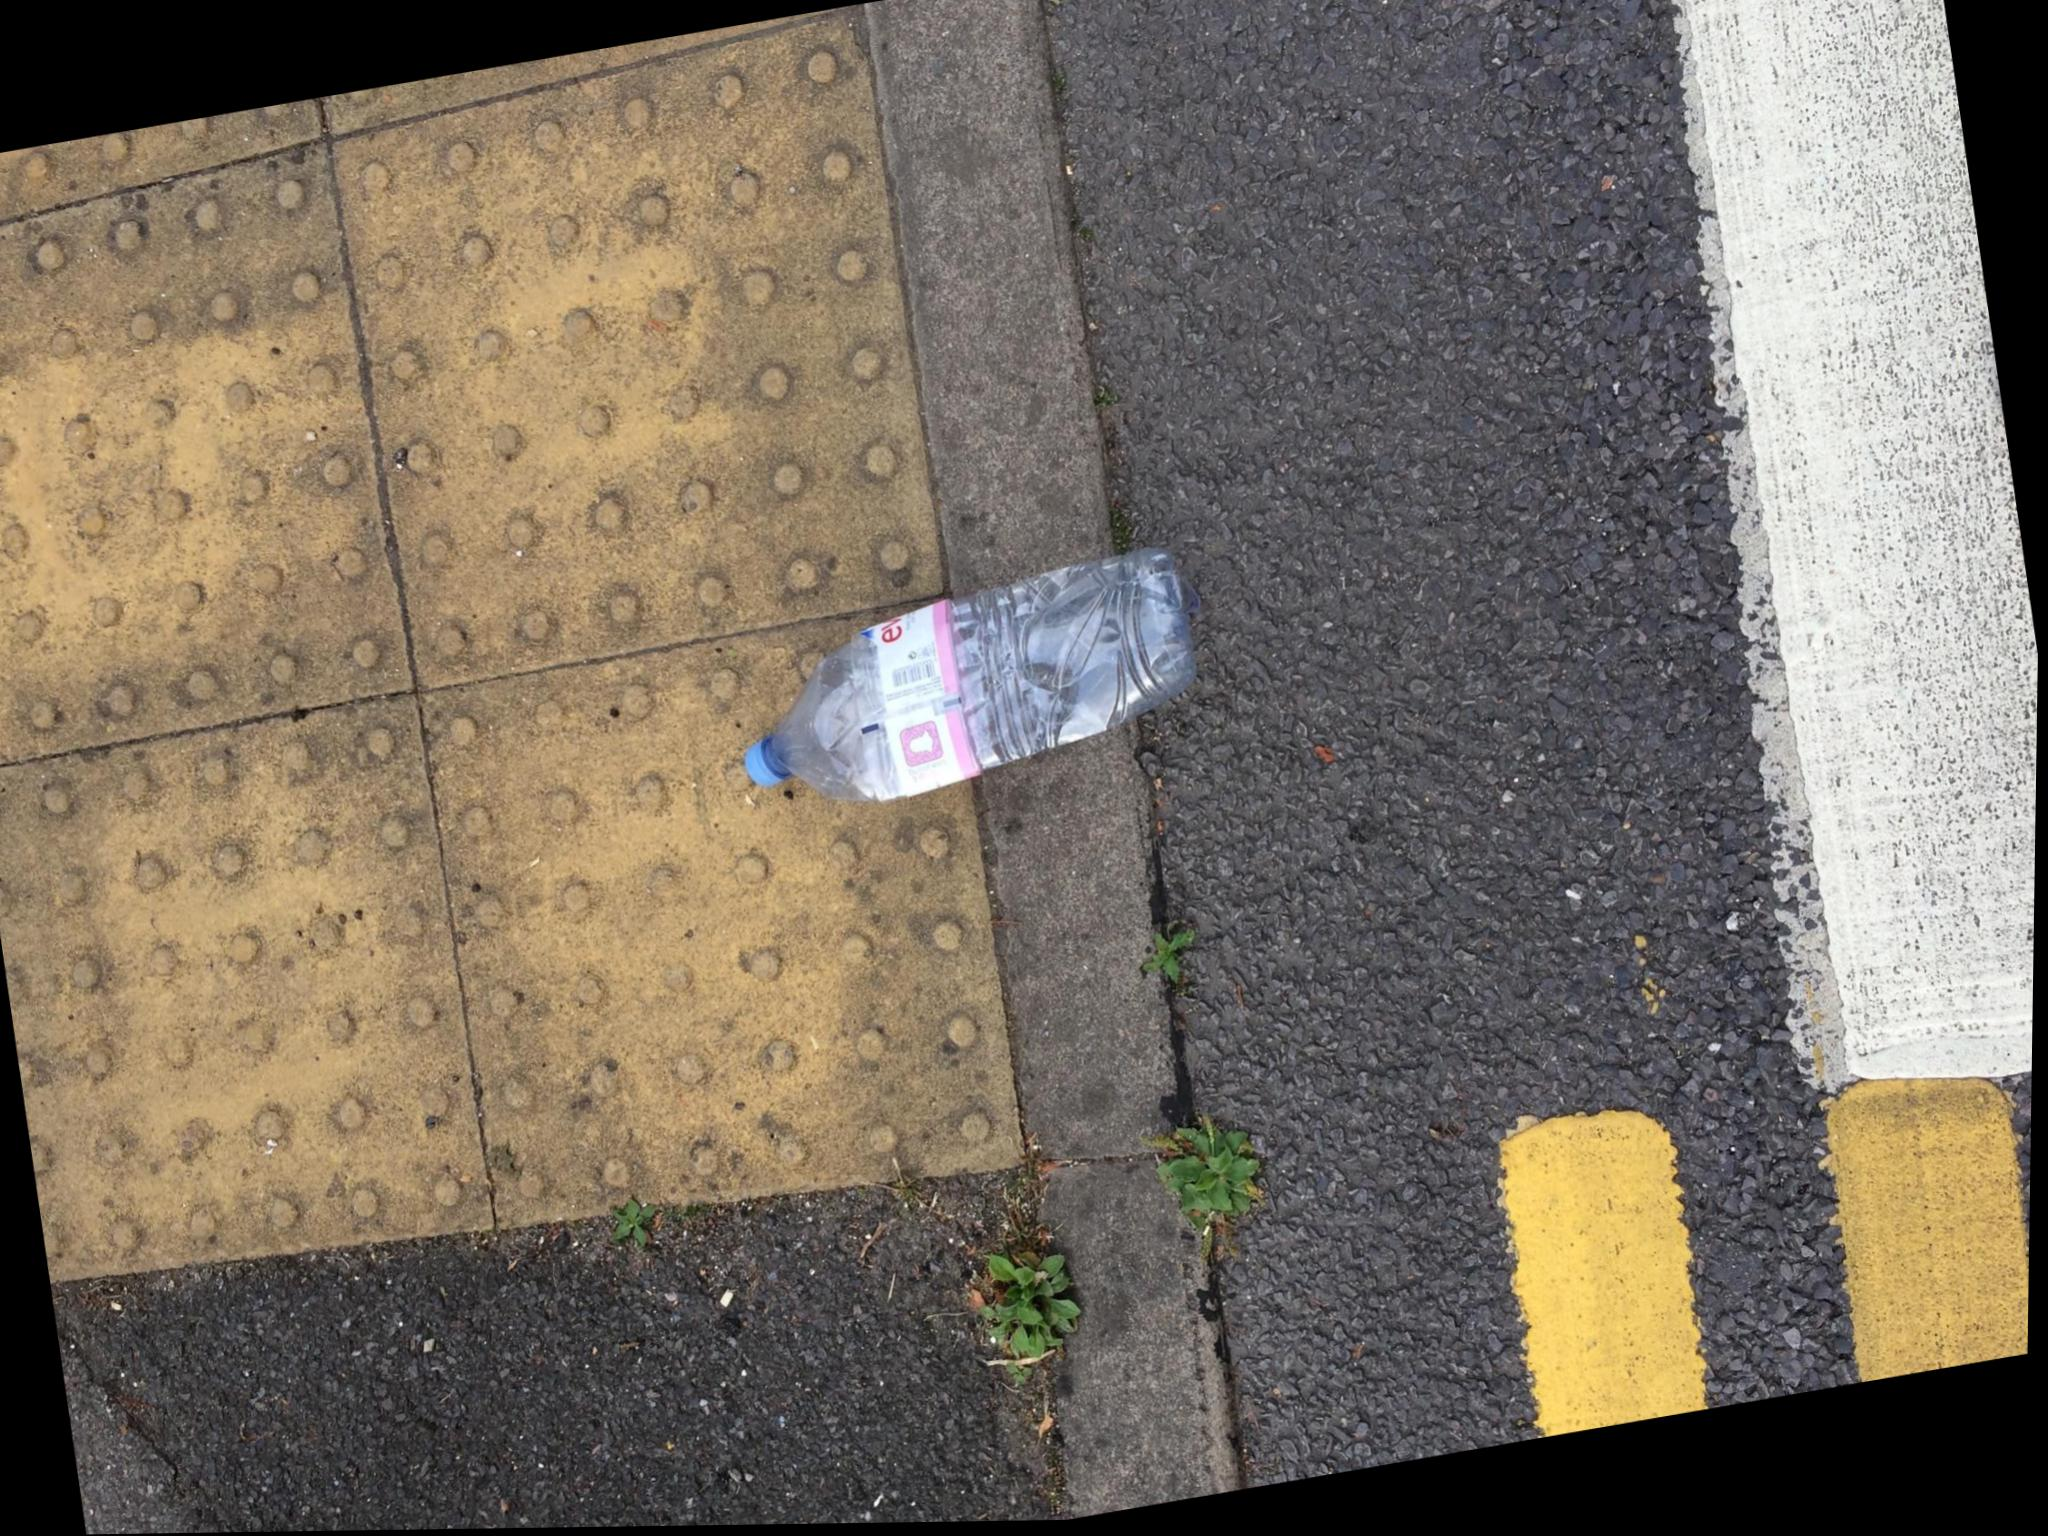plastic: (722, 531, 1219, 839)
